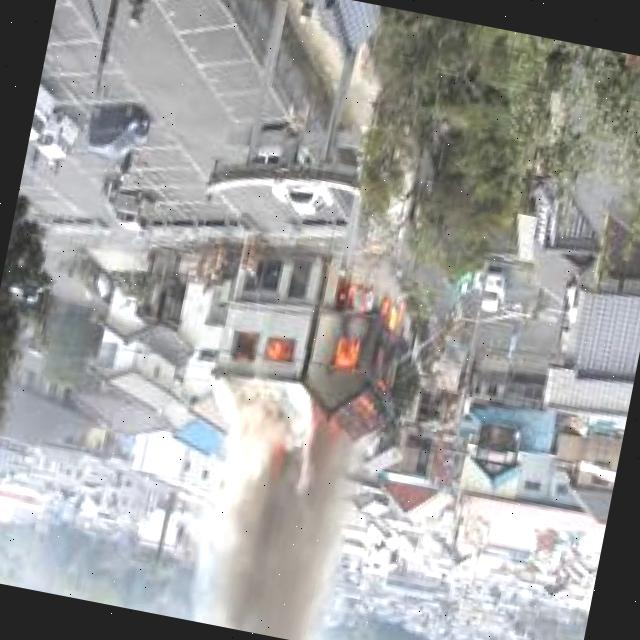fire: (315, 279, 415, 422), (262, 439, 296, 489), (260, 331, 300, 365)
